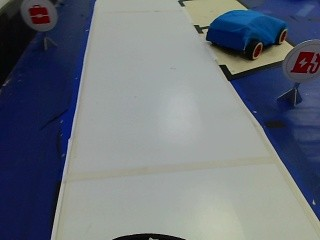battery: (288, 45, 318, 83)
car: (194, 4, 288, 55)
company: (16, 0, 57, 33)
